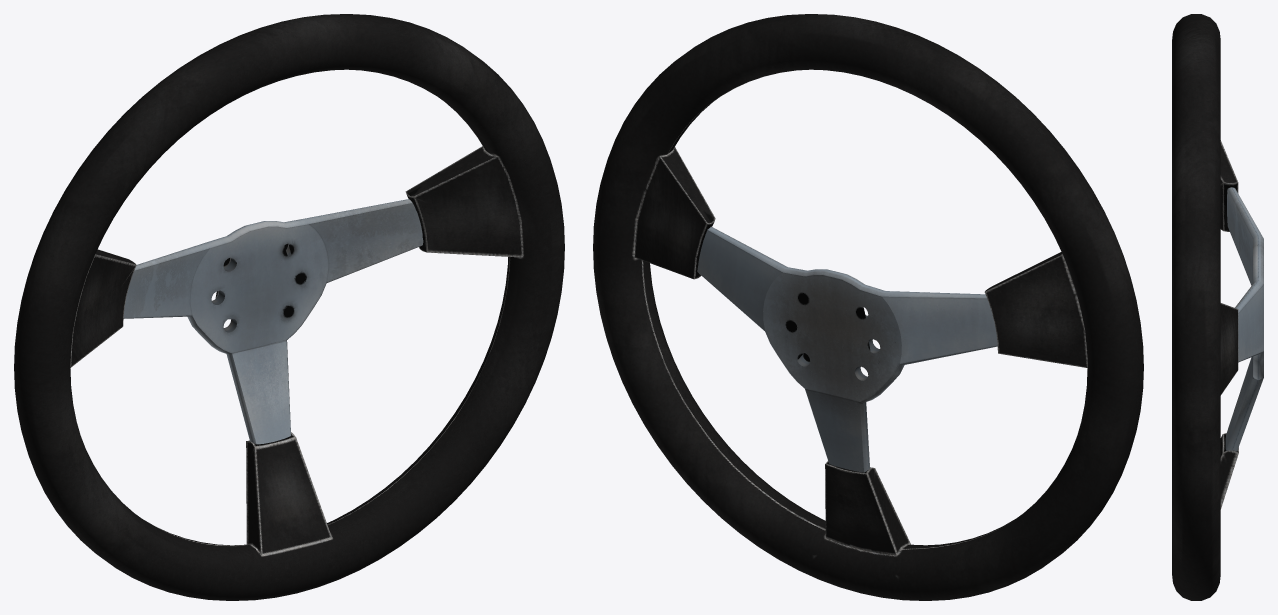
The model's file is Steering Wheel v1.fbx.
3 renders of one model, left to right at view 1: azimuth 30°, elevation 25°; view 2: azimuth 150°, elevation 25°; view 3: azimuth 270°, elevation 25°, orthographic. The views are drawn at different scales.
Visible parts, largest first — view 1: SteeringWheel; view 2: SteeringWheel; view 3: SteeringWheel.
Part boxes in pixels (box(x1,y1,x2,y2)): SteeringWheel: box(14, 14, 564, 600); SteeringWheel: box(593, 14, 1143, 600); SteeringWheel: box(1172, 14, 1263, 600).
Size of the model in its own units: 57.83 by 57.83 by 9.04.
